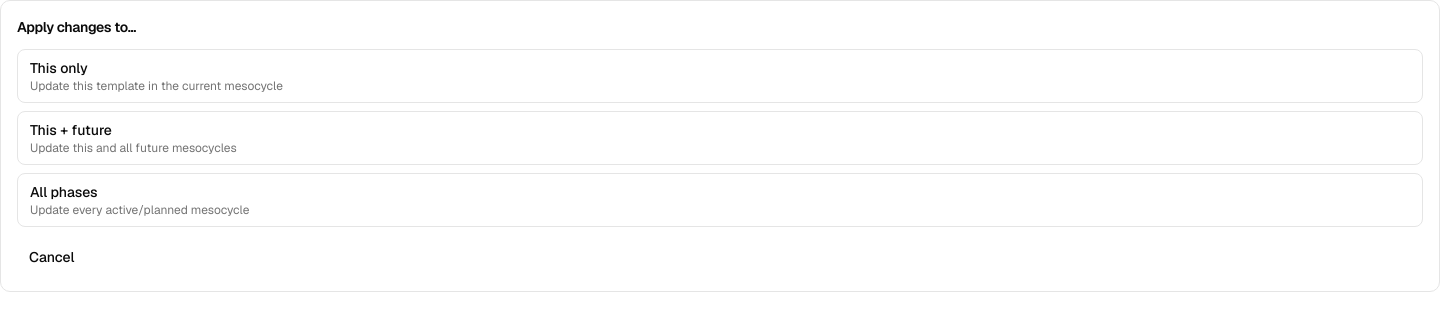
it: CascadeScopeSelector › shows preview of affected templates when a scope is selected
The width and height of the screenshot is (1440, 309).
Step 1. Click the text "All phases" → click(64, 192), box [30,182,98,202]
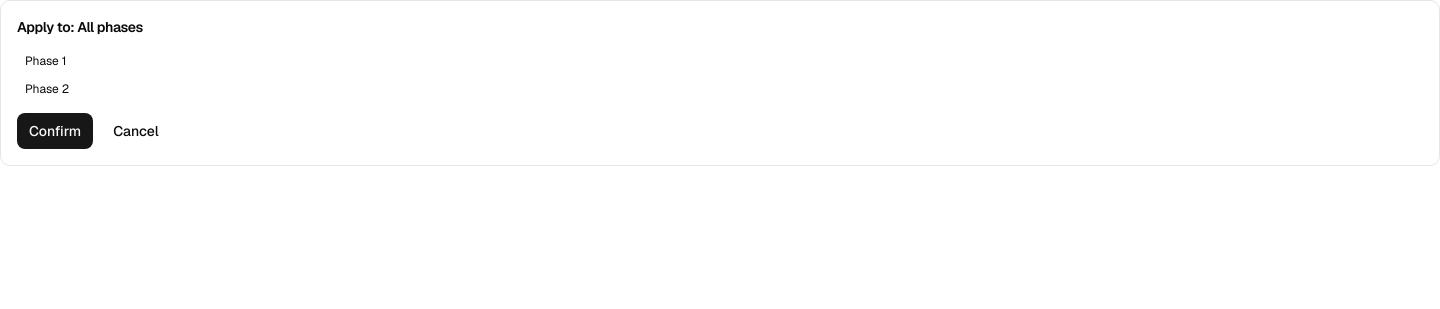
expect the text "Phase 1" is shown: met, box [25,53,66,69]
expect the text "Phase 2" is shown: met, box [25,81,69,97]
